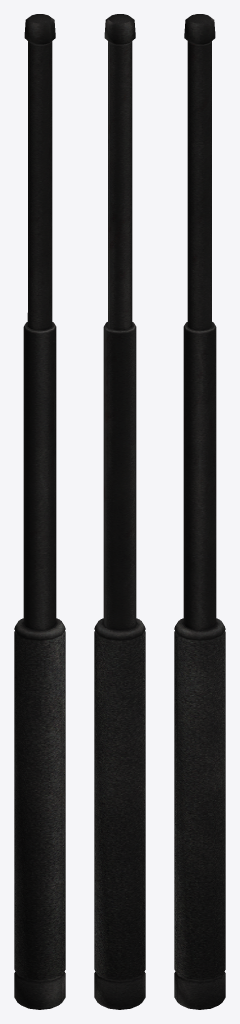
The model's file is Police Baton.fbx.
3 renders of one model, left to right at view 1: azimuth 90°, elevation 25°; view 2: azimuth 150°, elevation 25°; view 3: azimuth 330°, elevation 25°, orthographic.
Parts seen in each view (by area): view 1: model_0; view 2: model_0; view 3: model_0.
Boxes of the visible parts, x1,y1,x2,y2 form: model_0: (14,14,65,1009); model_0: (94,14,145,1009); model_0: (174,14,225,1009).
Bounding box in the file's own units: 252 × 5304 × 252.
